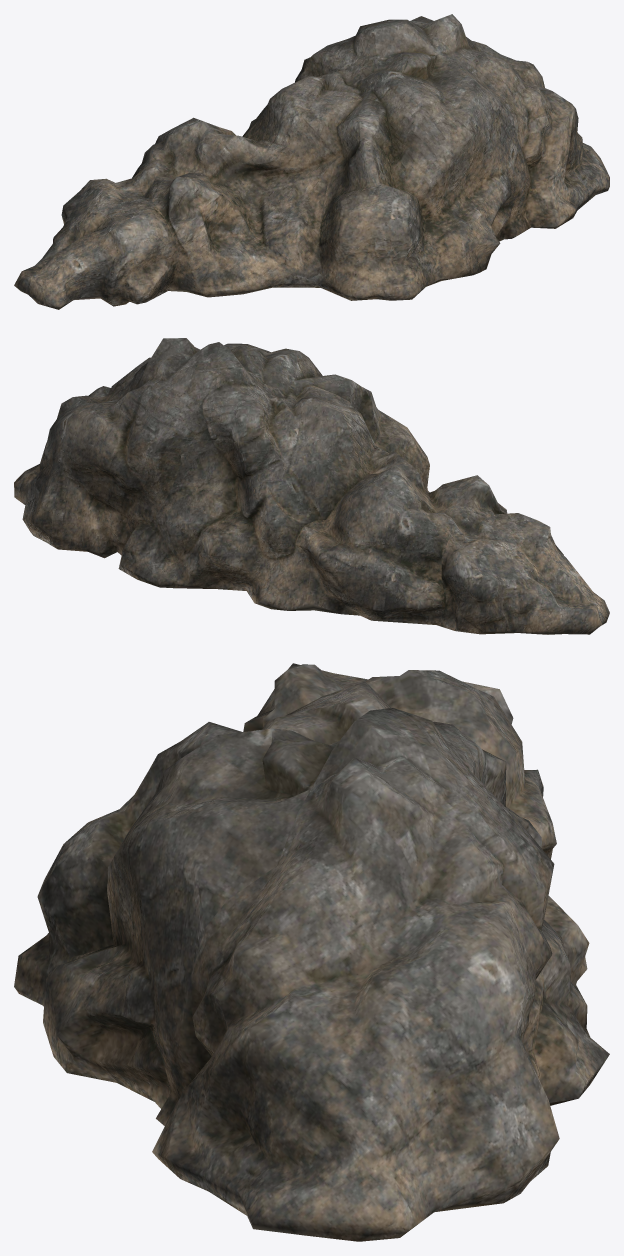
Rendered from Mountains_v1_p3_1.gltf.
3 views of the same model, one above another, from view 1: azimuth 30°, elevation 25°; view 2: azimuth 150°, elevation 25°; view 3: azimuth 270°, elevation 25° (orthographic). The views are drawn at different scales.
Parts seen in each view (by area): view 1: Mountains_v1_p3_1(Clone); view 2: Mountains_v1_p3_1(Clone); view 3: Mountains_v1_p3_1(Clone).
Part boxes in pixels (<box>): Mountains_v1_p3_1(Clone): <box>14,14,609,309</box>; Mountains_v1_p3_1(Clone): <box>14,338,609,634</box>; Mountains_v1_p3_1(Clone): <box>14,663,609,1241</box>.
Size of the model in its own units: 49.08 by 15.82 by 23.88.
1 material, 1 textured.
